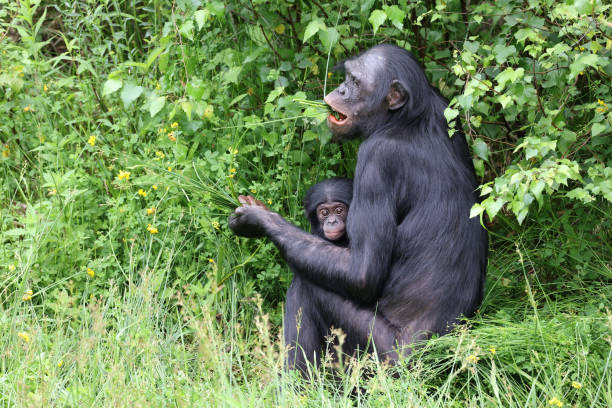chimpanzee: (294, 30, 451, 167), (295, 171, 366, 253)
